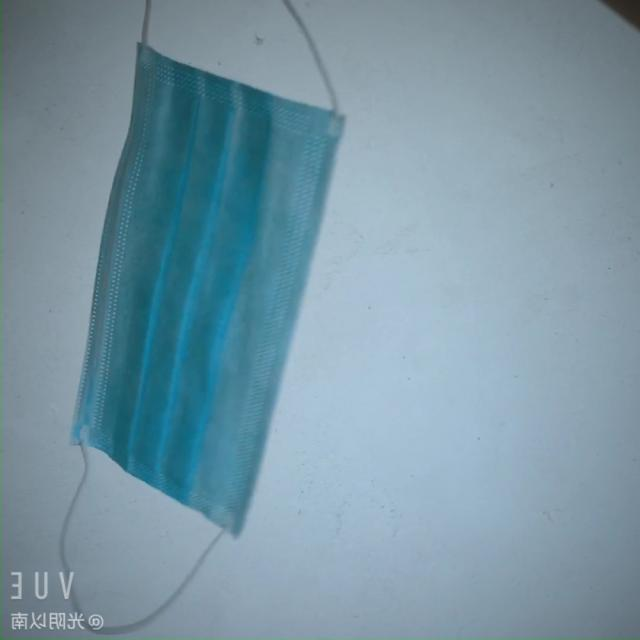face mask: (78, 46, 304, 564)
